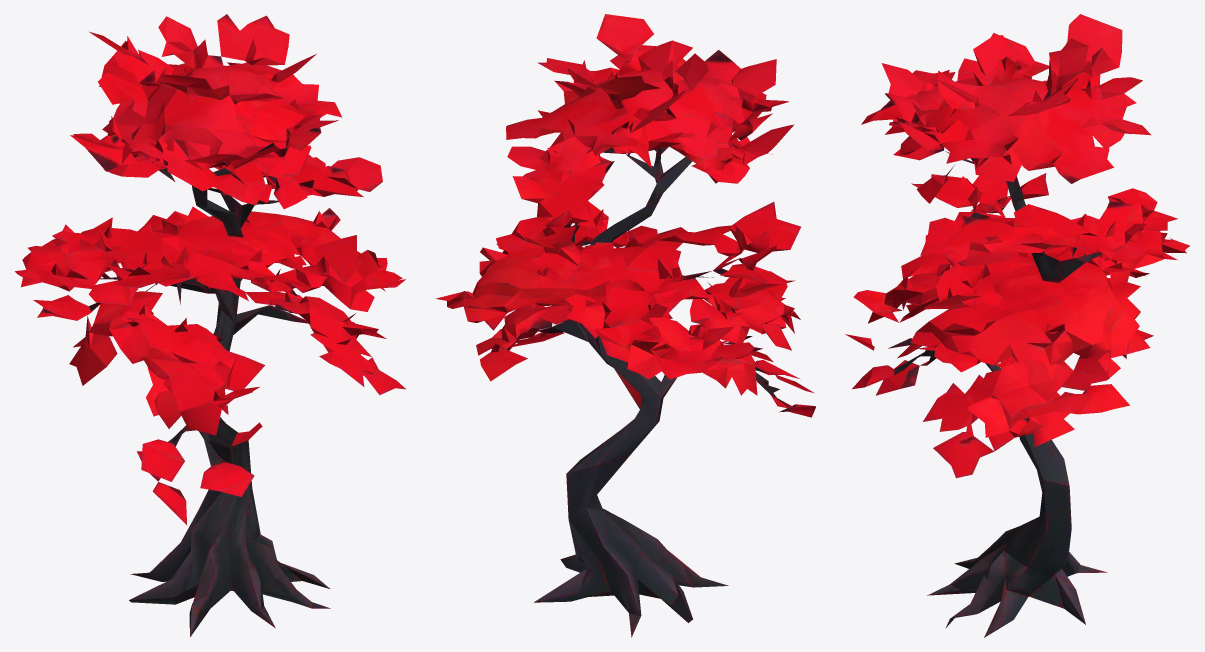
Rendered from momiji.glb.
3 renders of one model, left to right at view 1: azimuth 30°, elevation 25°; view 2: azimuth 150°, elevation 25°; view 3: azimuth 270°, elevation 25°, orthographic. The views are drawn at different scales.
Size of the model in its own units: 1.11 by 1.88 by 1.09.
Materials: 1 (1 with a texture image).
